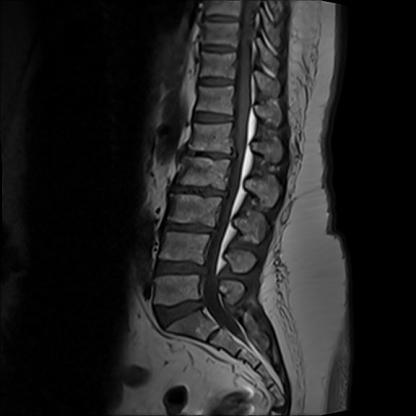Disc Bulgerotation: (152, 254, 213, 283), (155, 216, 221, 241), (165, 178, 229, 203), (178, 142, 236, 168)
